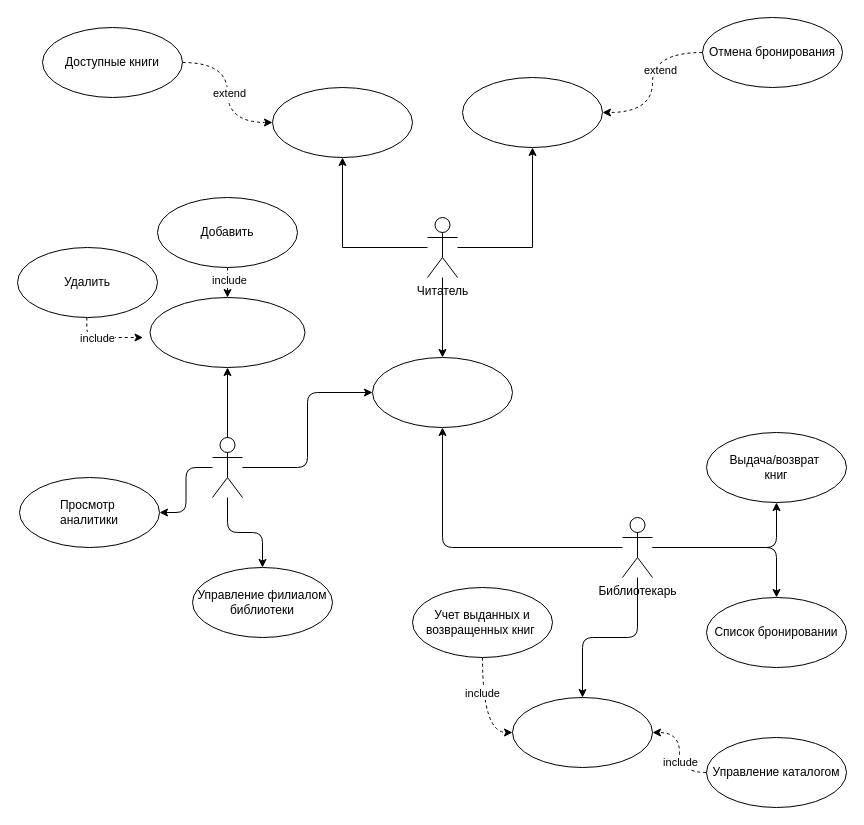
This 864x825 diagram has some shape labels left out. Each missing label, with the centre of its shape:
"Админстратор" belongs at point 227,467.
"Бронирование книги" belongs at point 532,112.
"Просмотр и поиск книг" belongs at point 342,122.
"Регистрация в системе" belongs at point 442,392.
"Управление книгами" belongs at point 582,732.
"Управление учетными записями пользователей и библиотекарей" belongs at point 227,332.
